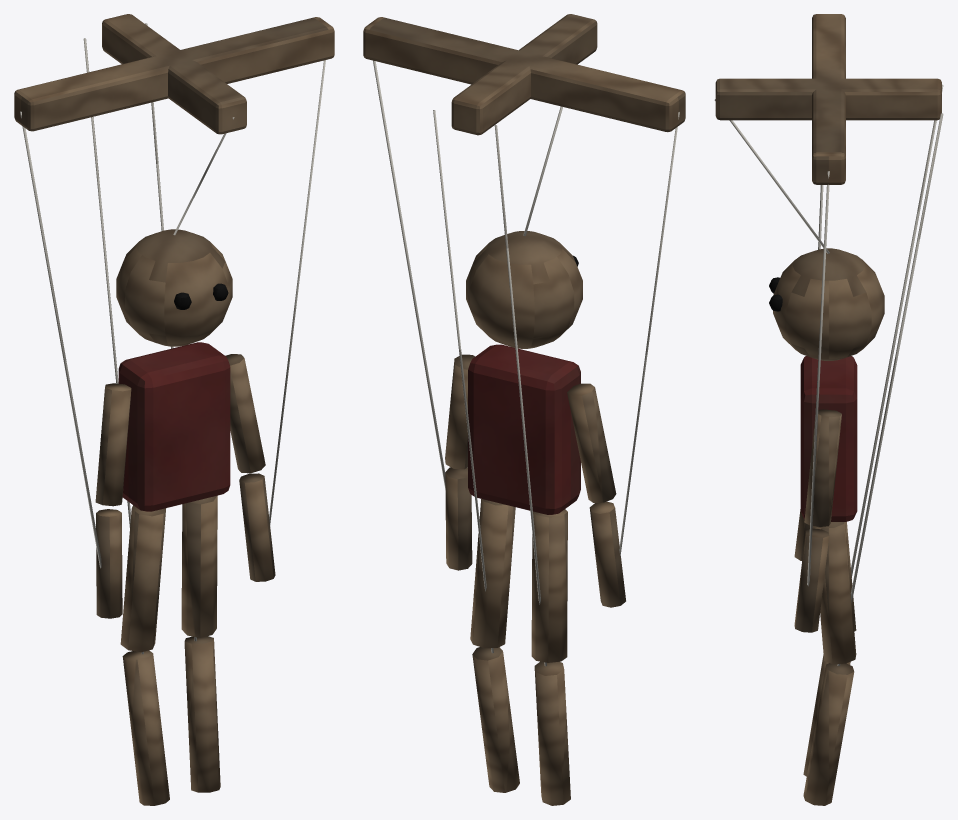
File: T12_marionette_hanging.glb
3 renders of one model, left to right at view 1: azimuth 30°, elevation 25°; view 2: azimuth 150°, elevation 25°; view 3: azimuth 270°, elevation 25°, orthographic. The views are drawn at different scales.
Parts seen in each view (by area): view 1: T12_marionette_hanging; view 2: T12_marionette_hanging; view 3: T12_marionette_hanging.
Part boxes in pixels (bbox=[...]): T12_marionette_hanging: bbox=[14, 14, 334, 805]; T12_marionette_hanging: bbox=[363, 14, 685, 805]; T12_marionette_hanging: bbox=[714, 14, 943, 805].
Size of the model in its own units: 0.352 by 0.8 by 0.2354.
Materials: 4 (4 with a texture image).
